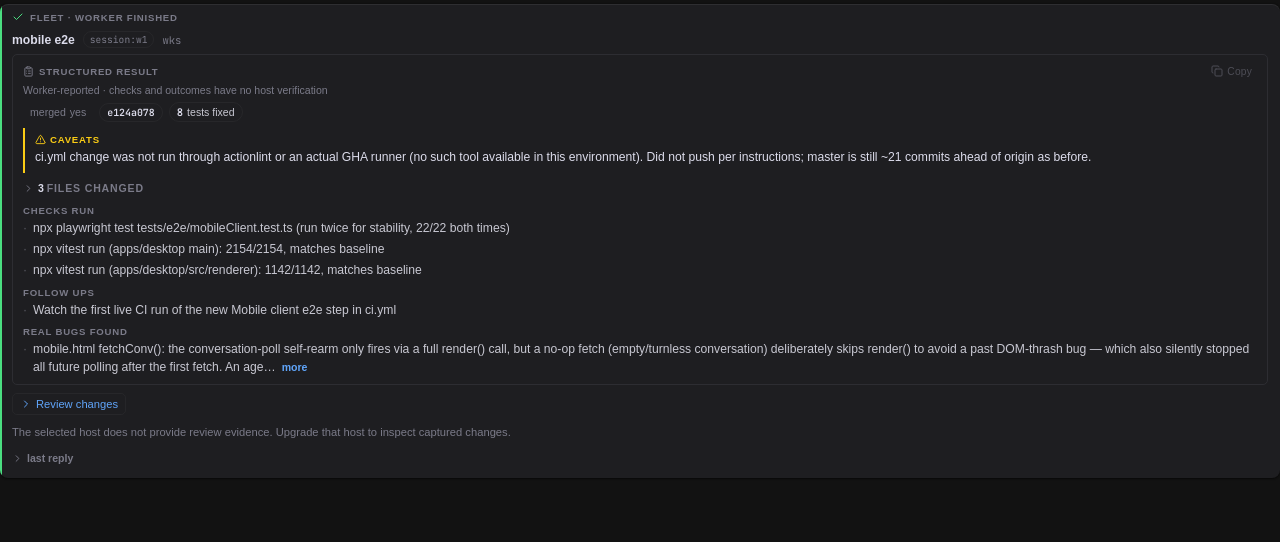
Test: <StructuredResultCard> inside a fleet wake › leads with the count for a file list and shows the paths on demand
Expected: the text "3" is shown, [38,182,44,194]
Expected: the text "files changed" is shown, [47,182,144,194]
Click the button "3 files changed": {"x": 83, "y": 188} [23,182,144,194]
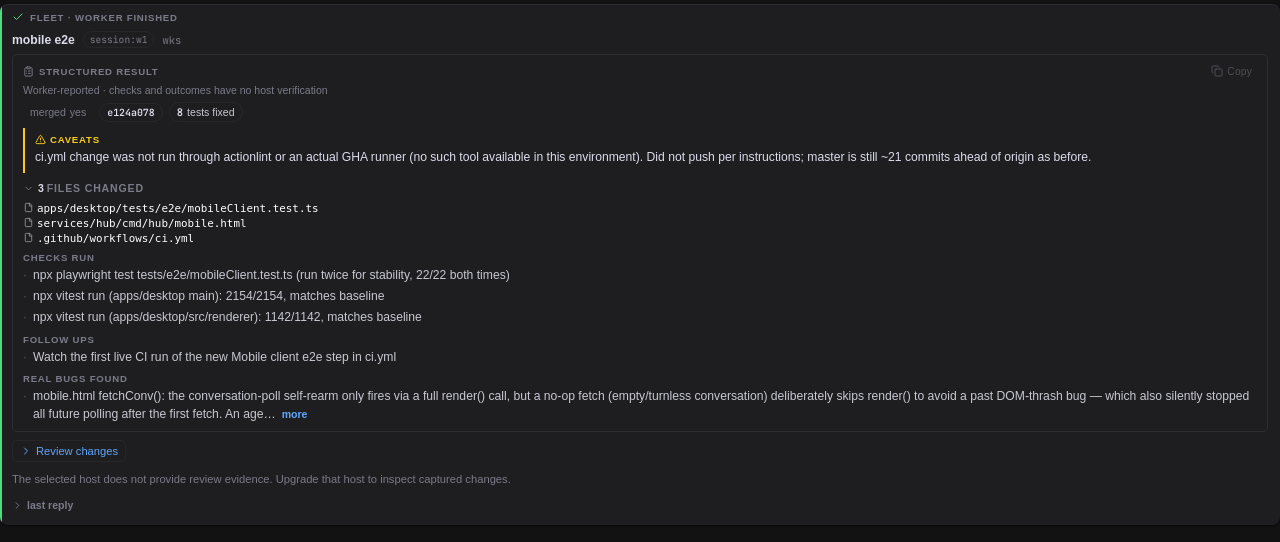
Now the button "apps/desktop/tests/e2e/mobileClient.test.ts" is shown, box [23,202,318,215]
